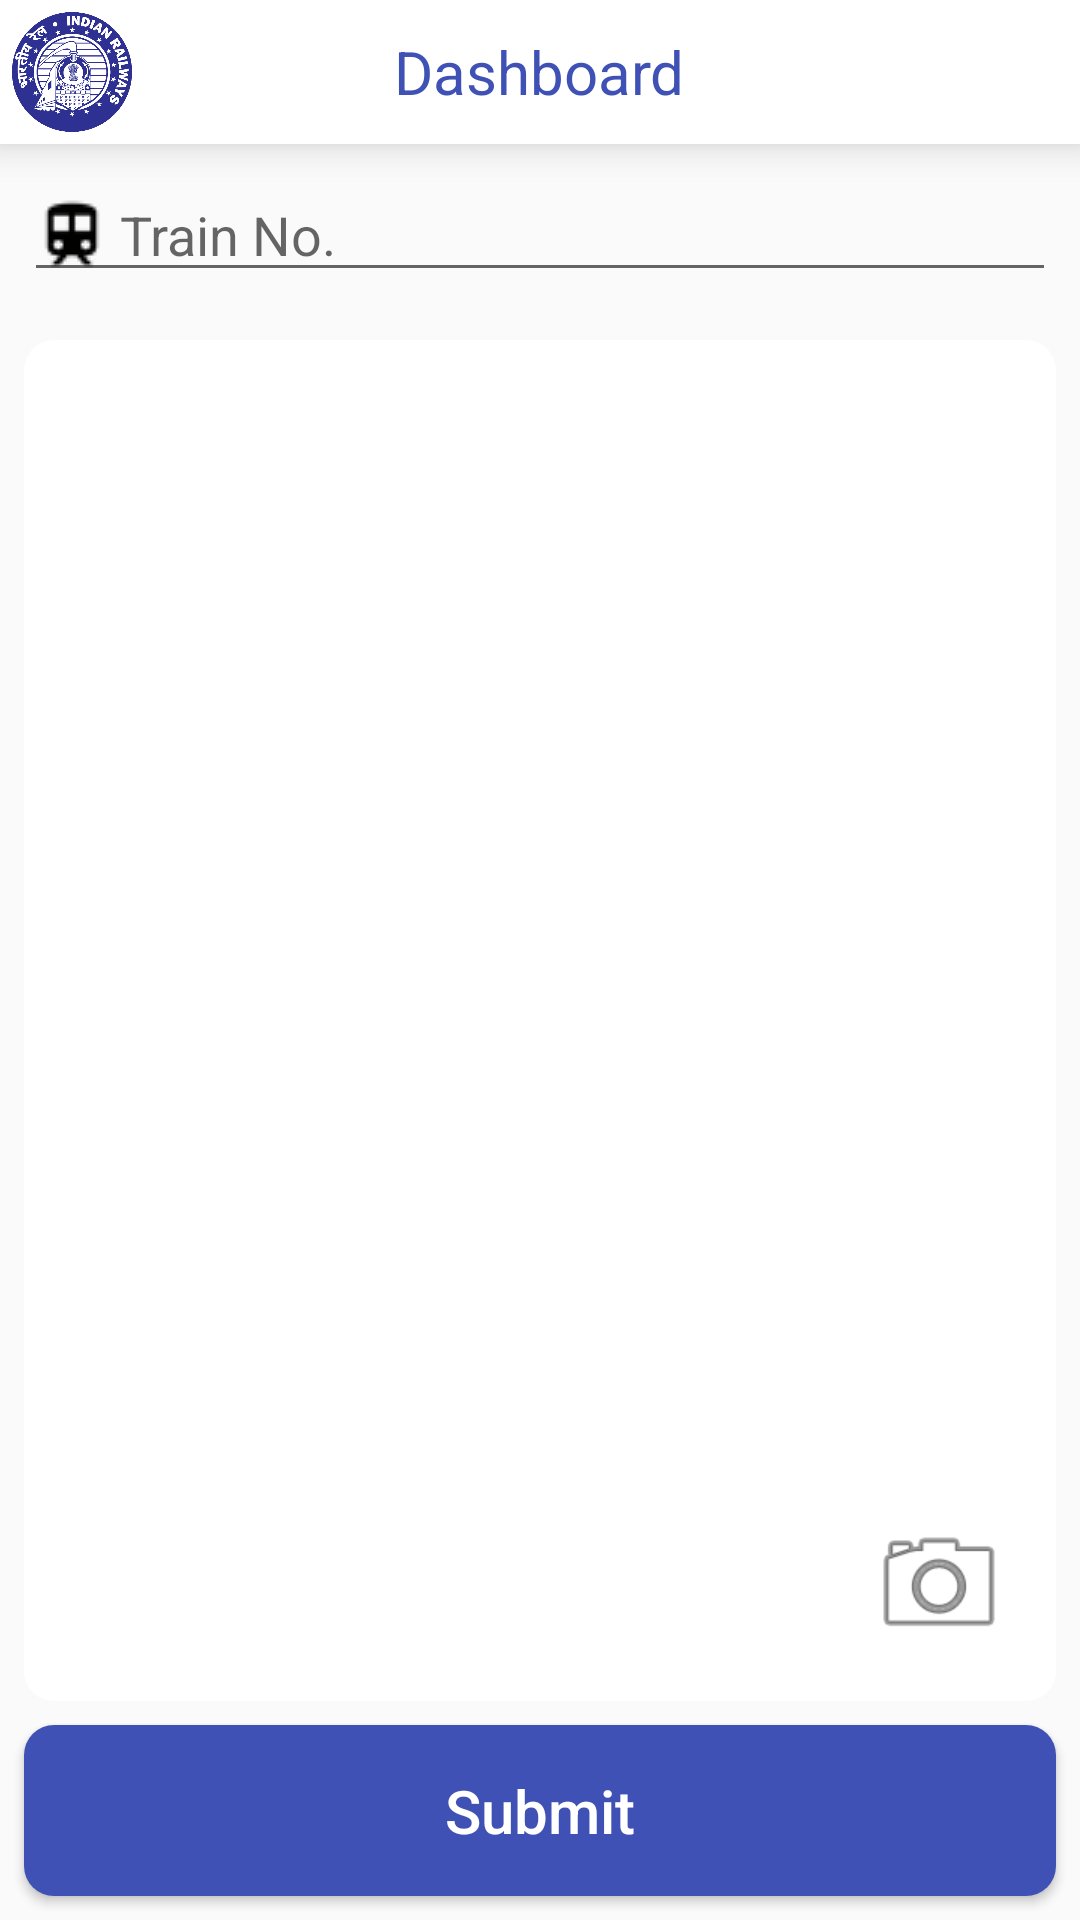

Icon click points for this 1080px×1920px phone screenshot, format [x,y]:
camera: [939,1581]
